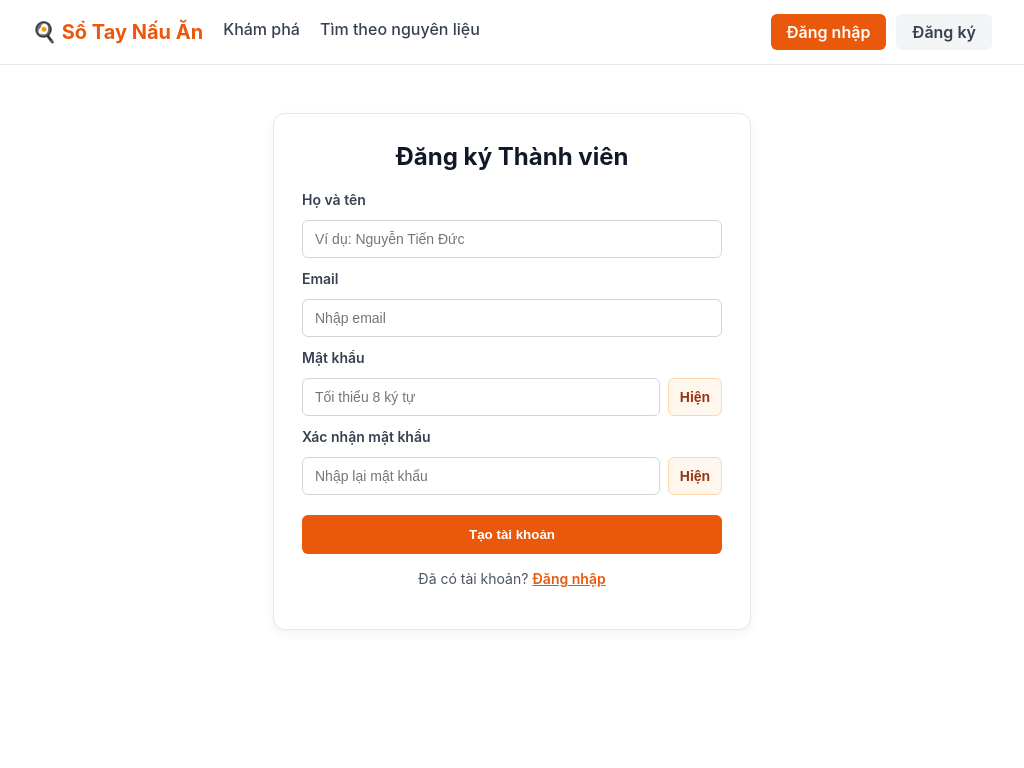
Test case: toggles the two registration passwords separately and catches a mismatch
The width and height of the screenshot is (1024, 768).
Type "Nguyễn An" into the field labelled "Họ và tên".
click(512, 239); type("Nguyễn An")  # box [302,220,722,258]
Type "an@example.com" into the field labelled "Email".
click(512, 318); type("an@example.com")  # box [302,299,722,337]
Type "TestPassword123" into the password field labelled "Mật khẩu".
click(481, 397); type("TestPassword123")  # box [302,378,660,416]
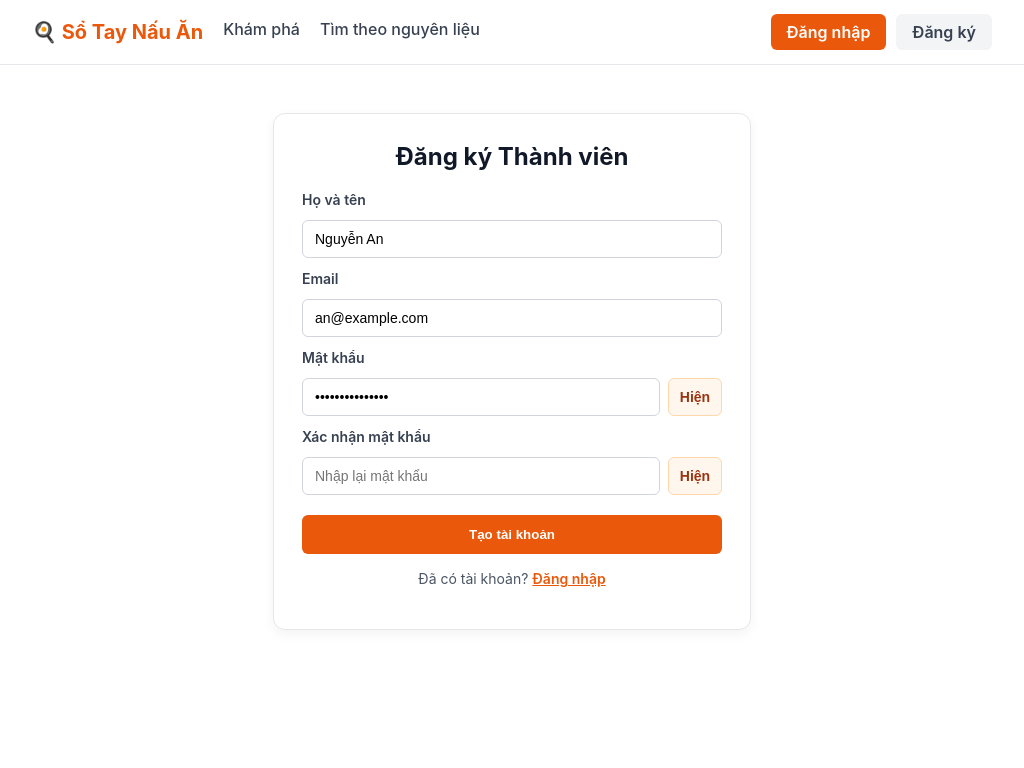
Type "Different123" into the password field labelled "Xác nhận mật khẩu".
click(481, 476); type("Different123")  # box [302,457,660,495]
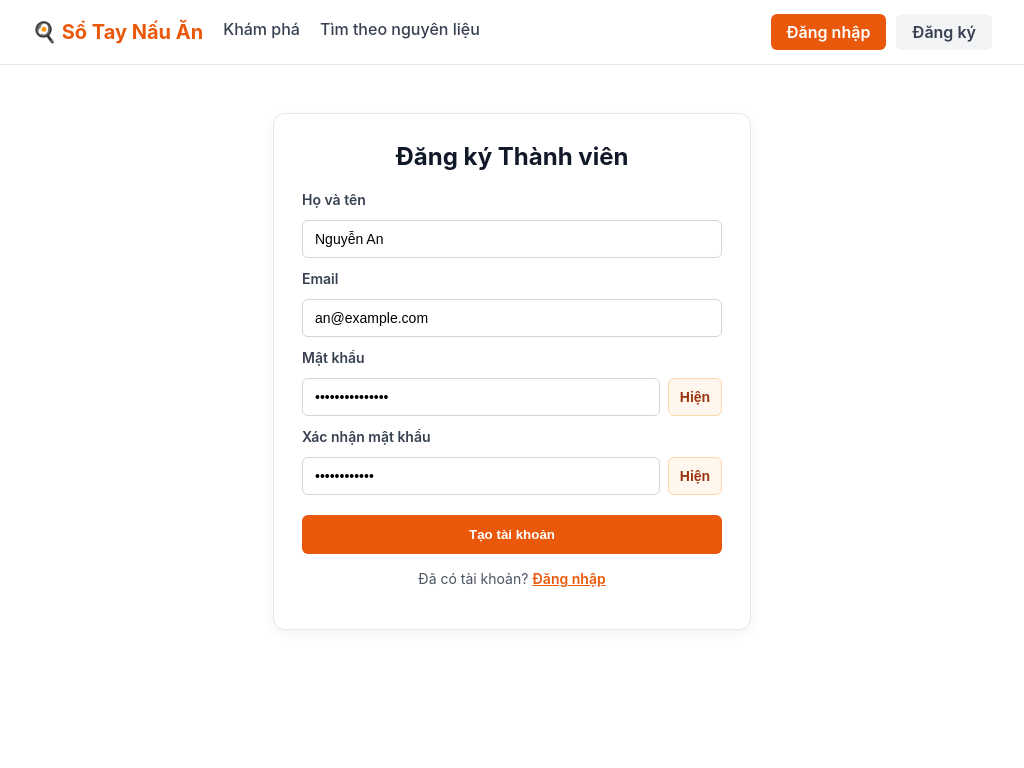
Click the button with aria-label "Hiện xác nhận mật khẩu".
click(695, 476)  # box [668,457,722,495]
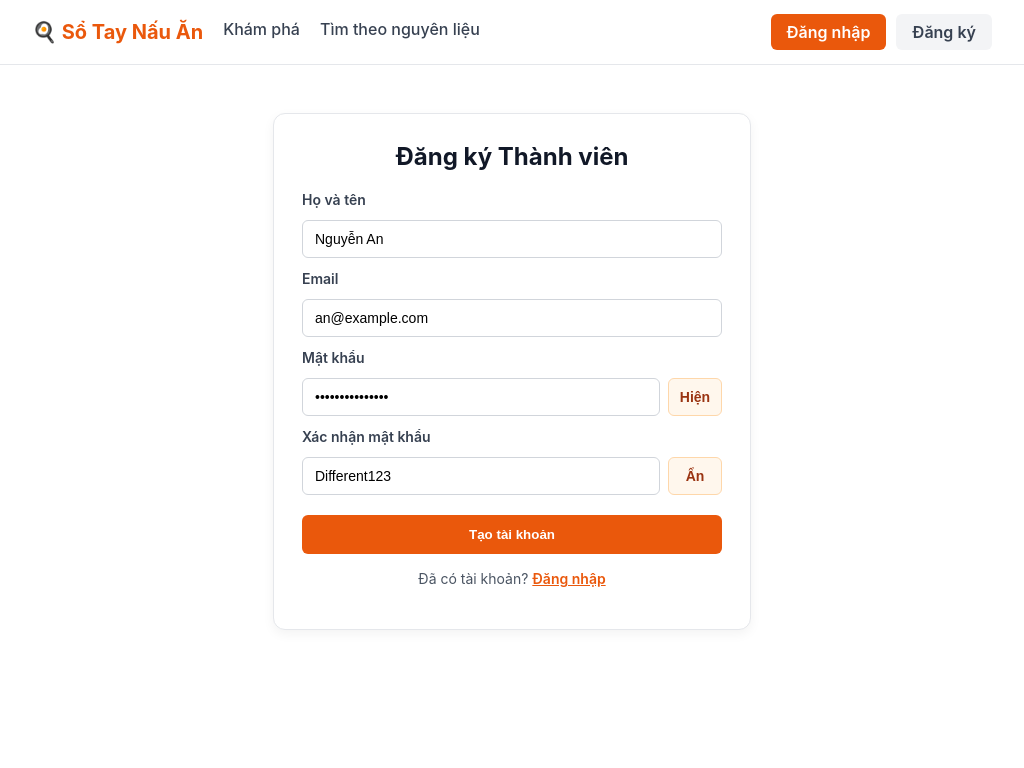
Check: the field labelled "Xác nhận mật khẩu" shows its text, box [302,457,660,495]
Click the button with aria-label "Hiện mật khẩu".
click(695, 397)  # box [668,378,722,416]
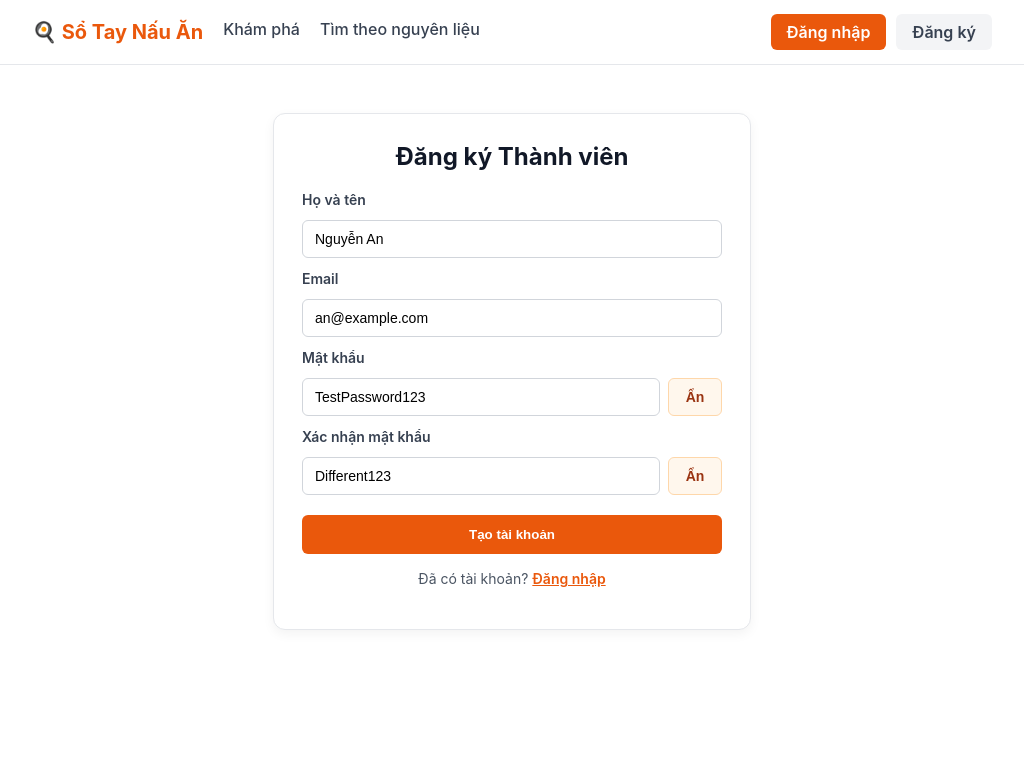
Click the button with aria-label "Ẩn xác nhận mật khẩu".
click(695, 476)  # box [668,457,722,495]
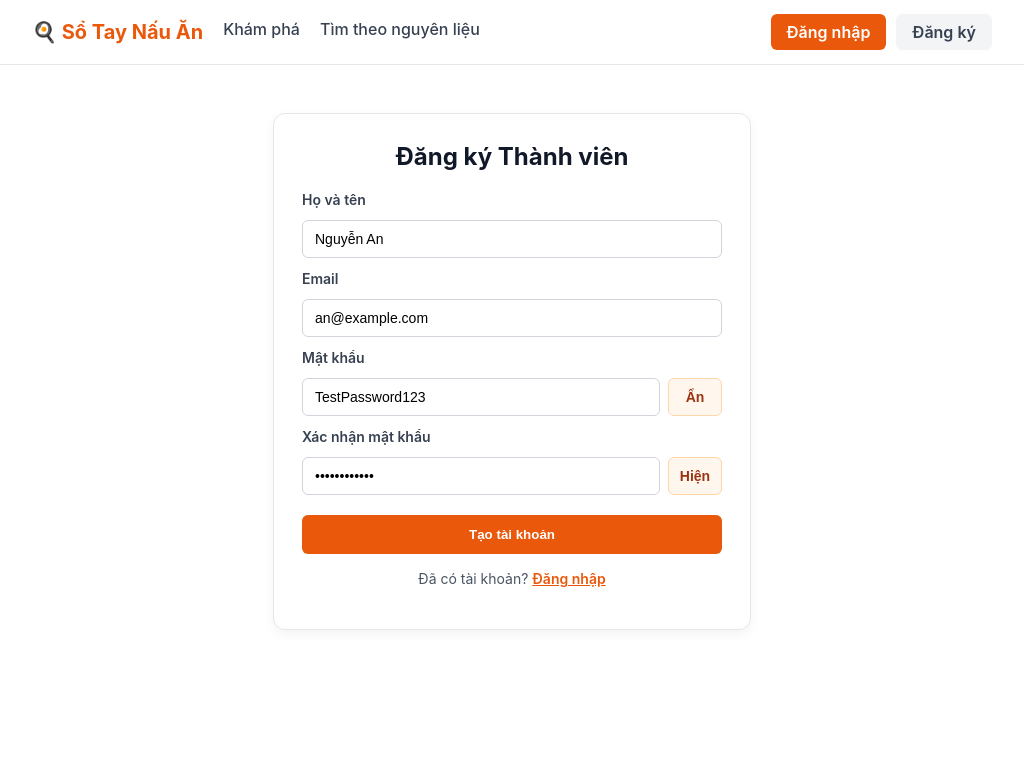
Check: the field labelled "Mật khẩu" shows its text, box [302,378,660,416]
Check: the password field labelled "Xác nhận mật khẩu" hides its text, box [302,457,660,495]
Click the button "Tạo tài khoản".
click(512, 534)  # box [302,515,722,554]
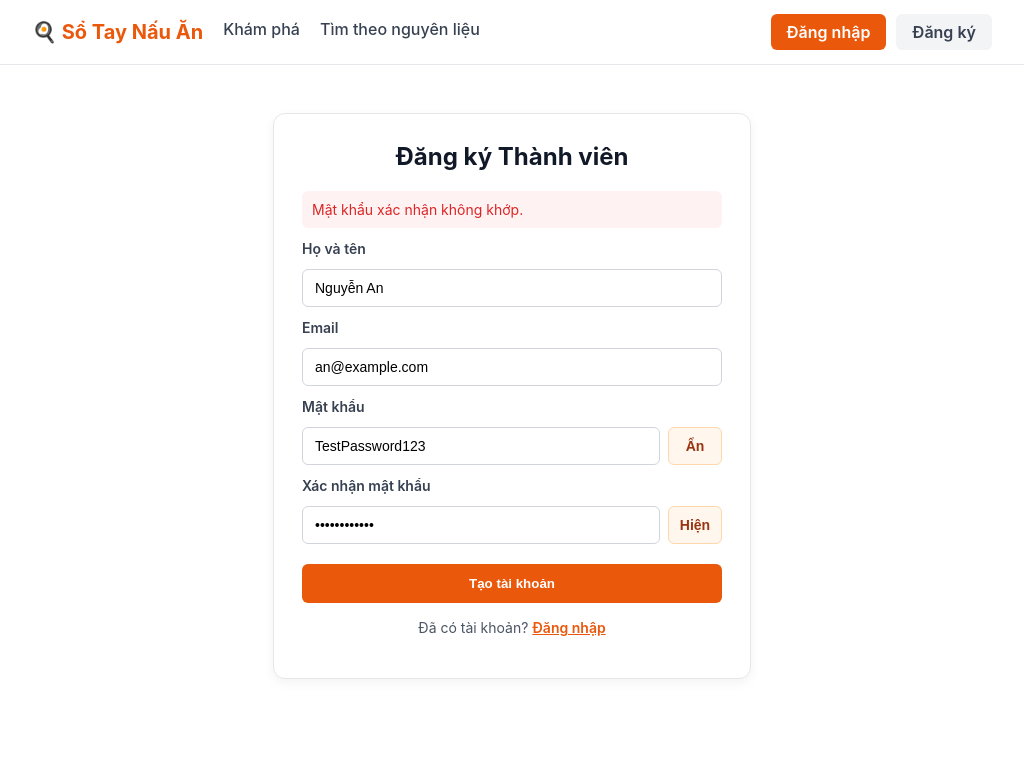
Check: the message reads "Mật khẩu xác nhận không khớp.", box [312,201,523,218]
